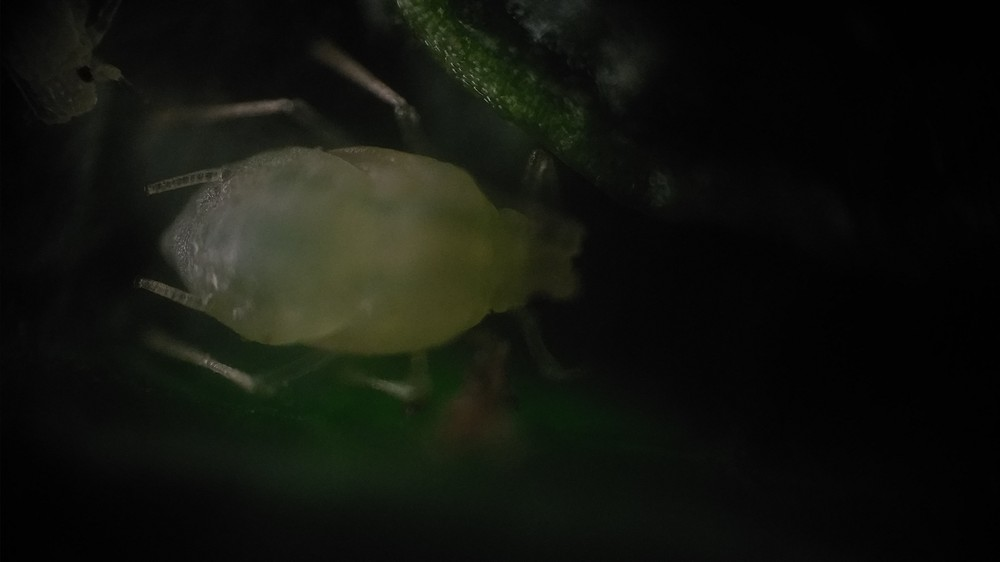Pulgon: (122, 60, 626, 436)
